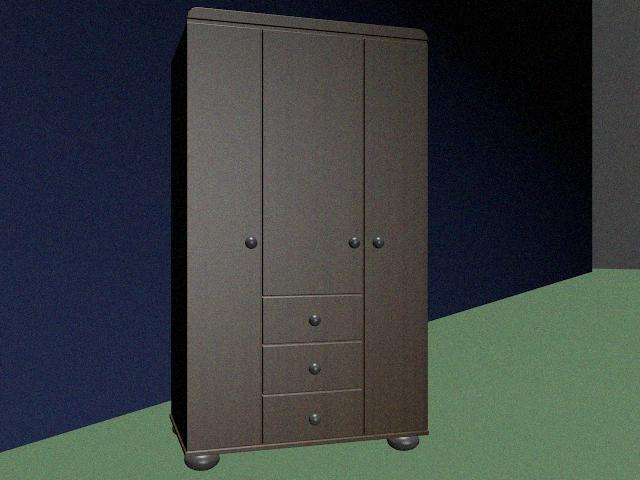cabinet_door: (190, 23, 262, 448), (262, 32, 363, 296), (363, 39, 428, 432), (262, 392, 364, 440), (262, 296, 363, 342)
handle: (304, 407, 326, 430), (303, 310, 327, 331), (368, 230, 387, 254), (304, 358, 324, 379), (344, 230, 363, 251), (242, 231, 259, 252)
